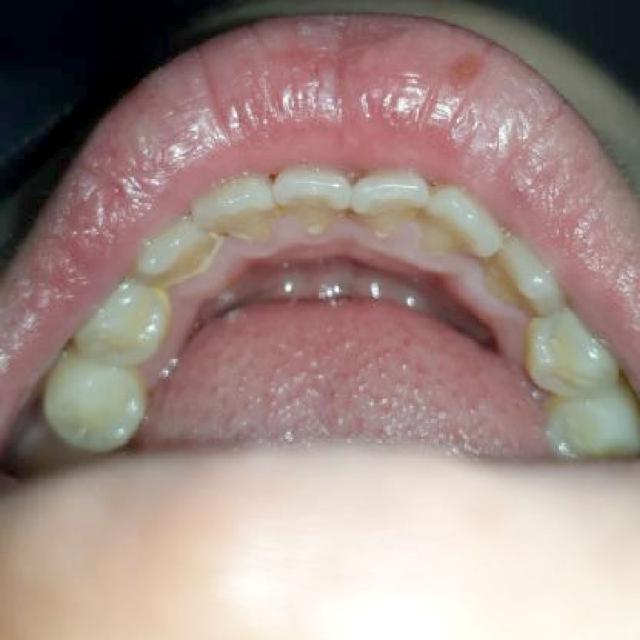Plaque: (153, 224, 264, 320), (370, 211, 436, 269), (325, 208, 372, 241), (269, 207, 308, 243)
